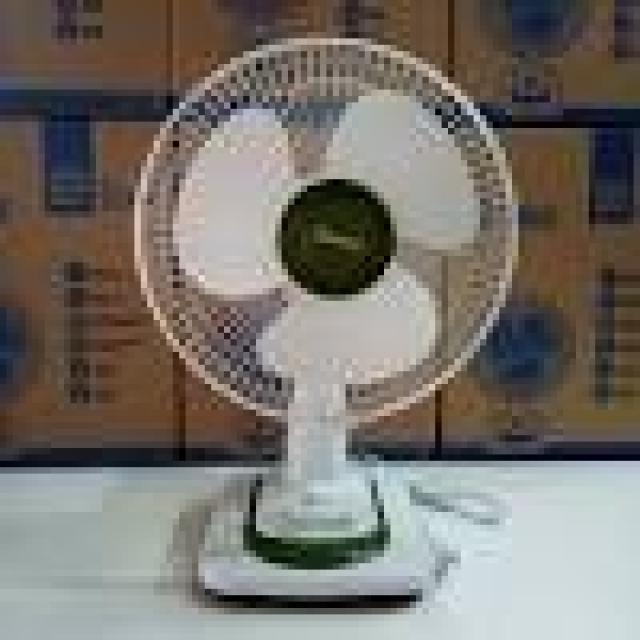fan: (112, 8, 531, 602)
